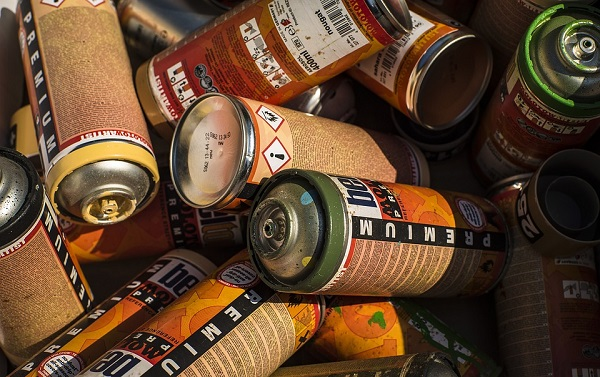Aerosol_cans: (136, 1, 414, 143), (244, 164, 518, 300), (13, 1, 166, 228), (169, 90, 433, 212), (481, 3, 600, 167)
